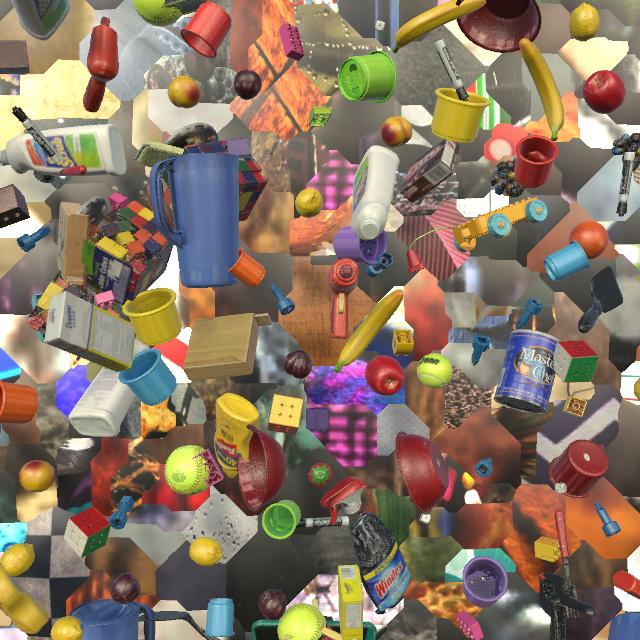ycb_002_master_chef_can: (494, 329, 562, 414), (0, 423, 2, 433)
ycb_004_sugar_box: (44, 291, 135, 372), (338, 565, 363, 640)
ycb_006_mustard_bottle: (214, 393, 260, 478), (0, 563, 49, 634)
ycb_008_pudding_box: (400, 139, 460, 203)
ycb_010_potted_meat_can: (161, 0, 212, 16)
ycb_011_banana: (335, 289, 404, 372), (392, 0, 486, 53), (519, 38, 565, 141)
ycb_012_strawberry: (308, 463, 333, 487)
ycb_013_apple: (583, 70, 626, 114), (365, 355, 405, 396)
ycb_014_lemon: (569, 3, 600, 42), (0, 543, 35, 577), (189, 537, 223, 566), (295, 188, 323, 218), (51, 616, 83, 640), (633, 378, 640, 400)
ycb_015_peach: (19, 460, 55, 492), (168, 75, 201, 108), (381, 116, 413, 148)
ycb_017_orange: (568, 221, 609, 260)
ycb_018_plum: (111, 573, 141, 604), (258, 589, 287, 621), (234, 69, 262, 100), (283, 350, 312, 379)
